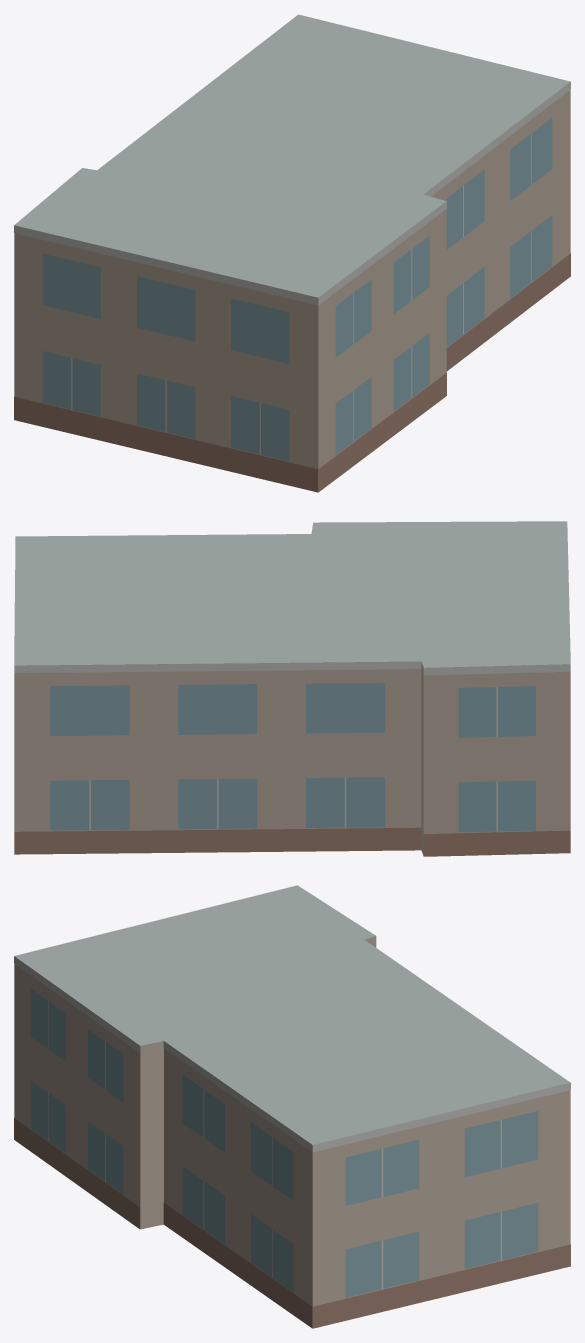
The model's file is survey-upis-32668191.glb.
3 renders of one model, top to bottom at view 1: azimuth 30°, elevation 25°; view 2: azimuth 150°, elevation 25°; view 3: azimuth 270°, elevation 25°, orthographic. The views are drawn at different scales.
Visible parts, largest first — view 1: survey-upis-32668191.tmp; view 2: survey-upis-32668191.tmp; view 3: survey-upis-32668191.tmp.
Boxes of the visible parts, left/top/right/bottom form: survey-upis-32668191.tmp: left=14, top=14, right=570, bottom=492; survey-upis-32668191.tmp: left=14, top=521, right=570, bottom=856; survey-upis-32668191.tmp: left=14, top=885, right=570, bottom=1328.
Bounding box in the file's own units: 18.52 × 6.1 × 16.77.
